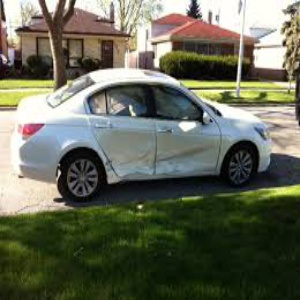door: (117, 145, 211, 178)
